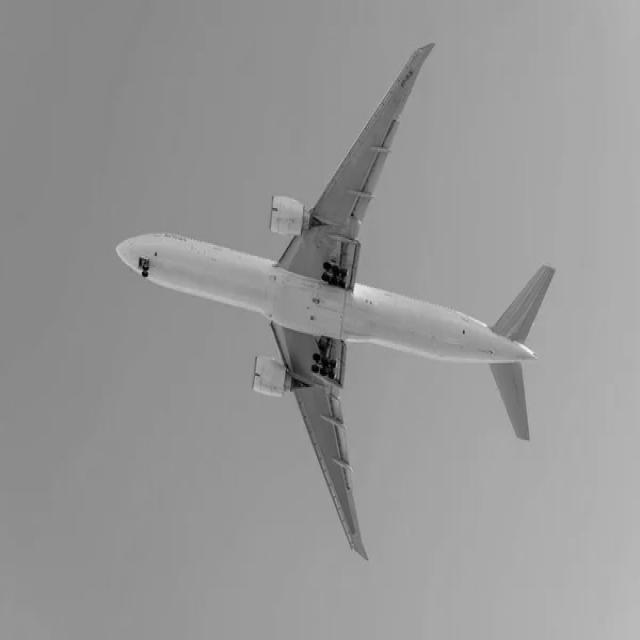Aircraft: (106, 25, 560, 561)
